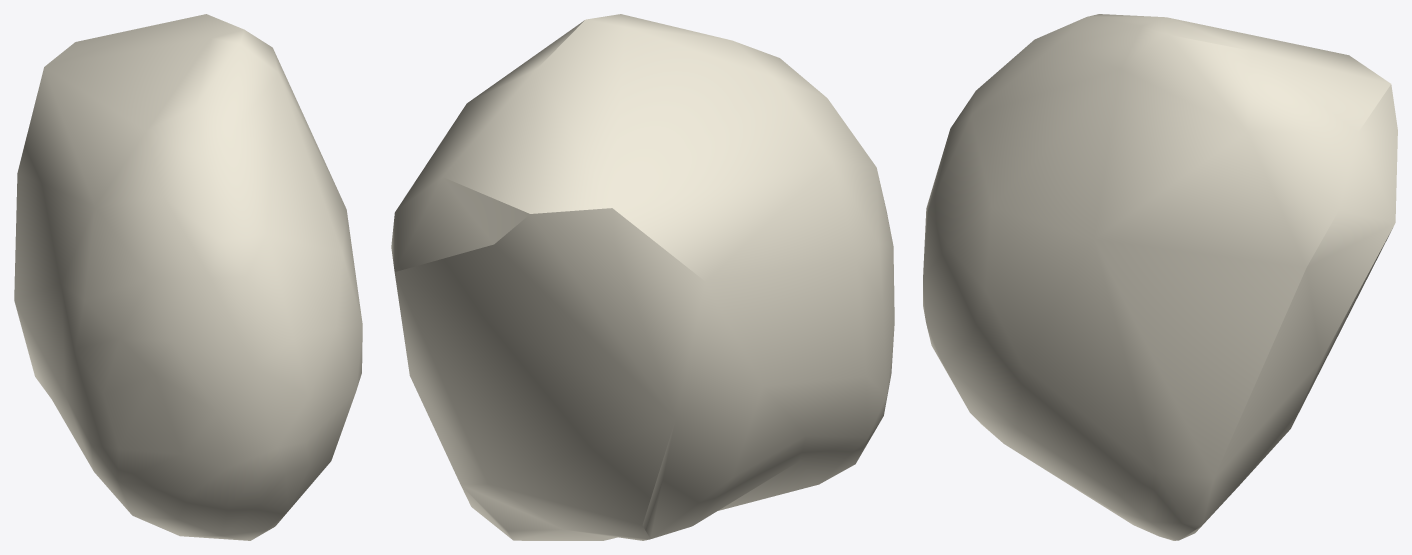
The model's file is fma24441_fj3382.glb.
3 views of the same model, side by side, from view 1: azimuth 30°, elevation 25°; view 2: azimuth 150°, elevation 25°; view 3: azimuth 270°, elevation 25° (orthographic). The views are drawn at different scales.
Parts seen in each view (by area): view 1: FMA24441_FJ3382; view 2: FMA24441_FJ3382; view 3: FMA24441_FJ3382.
Part boxes in pixels (<box>): FMA24441_FJ3382: <box>14,14,362,540</box>; FMA24441_FJ3382: <box>391,14,894,540</box>; FMA24441_FJ3382: <box>923,14,1397,540</box>.
Size of the model in its own units: 0.00826 by 0.0116 by 0.0104.
